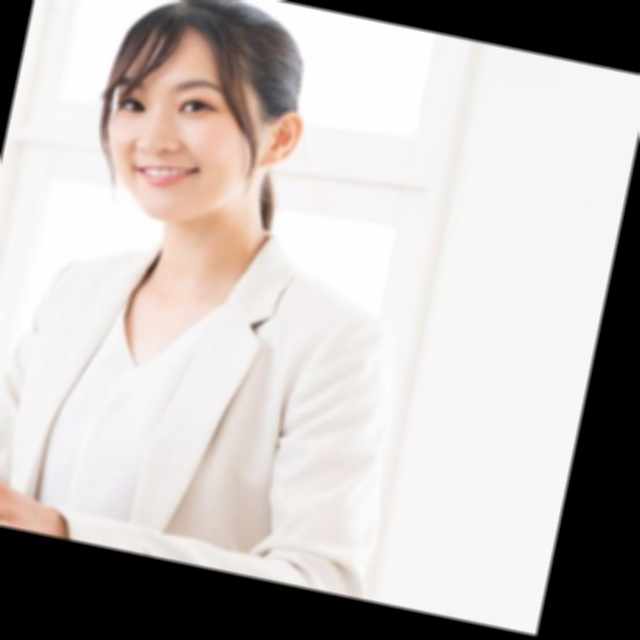Sin_Casco_Mascarrilla: (82, 0, 329, 241)
Sin_Chaleco: (0, 208, 415, 597)
